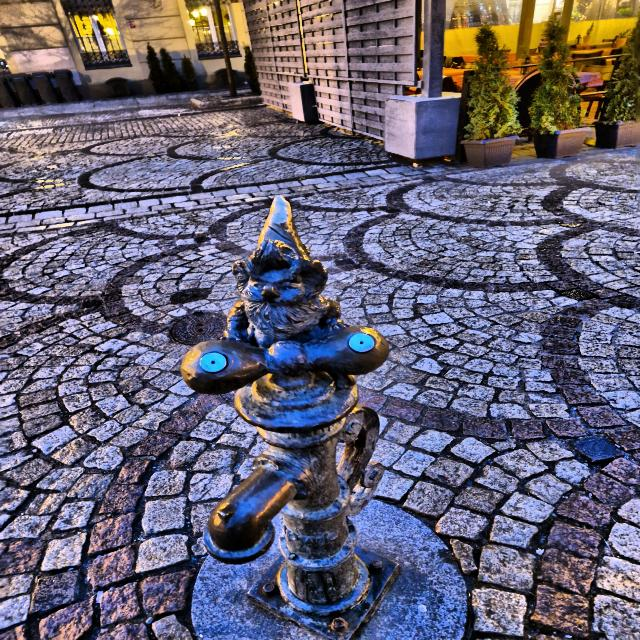Orzezwiacz: (180, 196, 390, 619)
